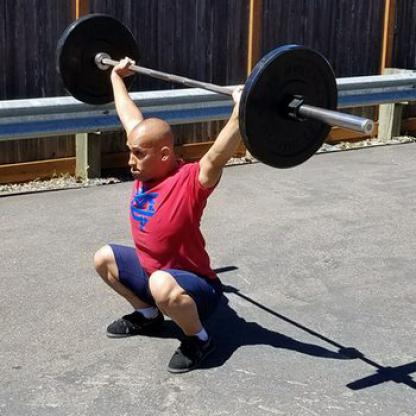Barbell: (233, 34, 346, 176)
